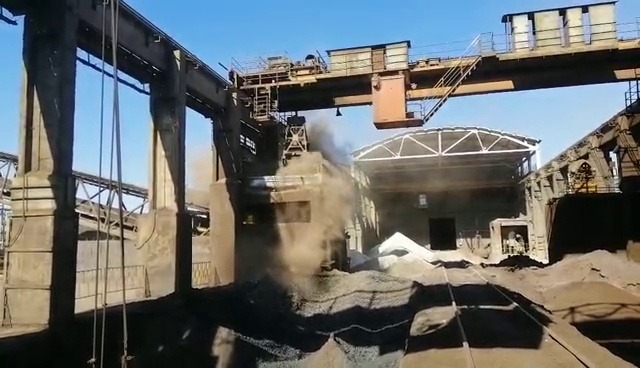dust: (194, 134, 481, 276)
grab: (277, 115, 313, 166)
